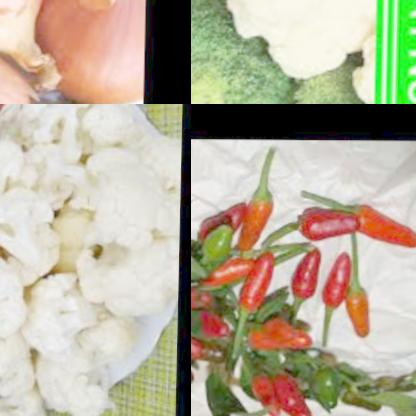broccoli: (191, 0, 363, 104), (191, 79, 416, 104)
cayliflower: (0, 104, 182, 416), (191, 0, 416, 104)
hot pepper: (342, 200, 416, 256), (234, 366, 312, 416), (231, 182, 276, 255), (292, 201, 366, 242), (253, 311, 314, 360), (200, 250, 263, 296), (245, 248, 284, 321), (192, 201, 250, 247), (288, 241, 325, 310), (191, 288, 232, 341), (341, 282, 373, 343), (326, 252, 356, 314), (191, 331, 209, 363)
onion: (35, 0, 148, 104)
